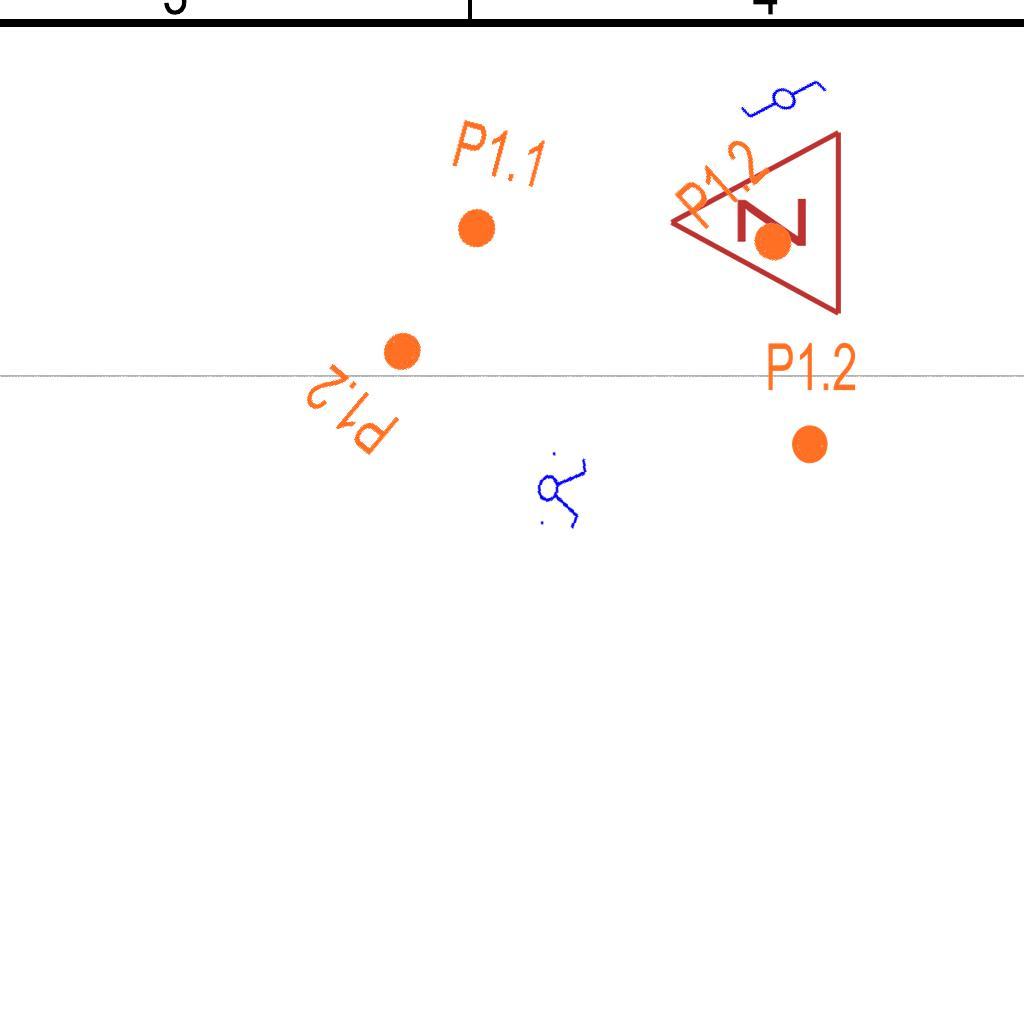Downlight_LED_Einbauleuchten_Flur: (297, 303, 452, 461), (669, 131, 824, 289), (429, 115, 552, 263), (765, 339, 858, 467)
Serienschalter: (530, 444, 592, 536)
Wechselschalter: (735, 51, 839, 153)
Zimmersignalleuchte: (656, 127, 856, 323)
